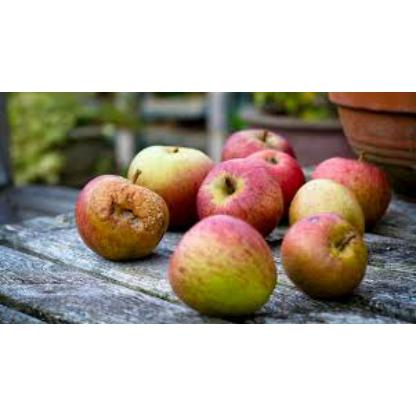apple: (172, 216, 282, 308)
damaged_apple: (278, 211, 374, 289), (74, 175, 166, 253), (128, 142, 214, 218), (199, 159, 283, 223)
